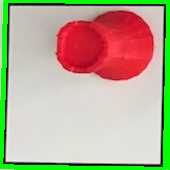Red Castle: (54, 8, 156, 82)
